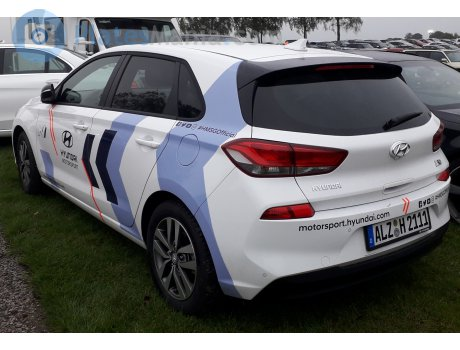License Plates: (380, 207, 428, 242)
